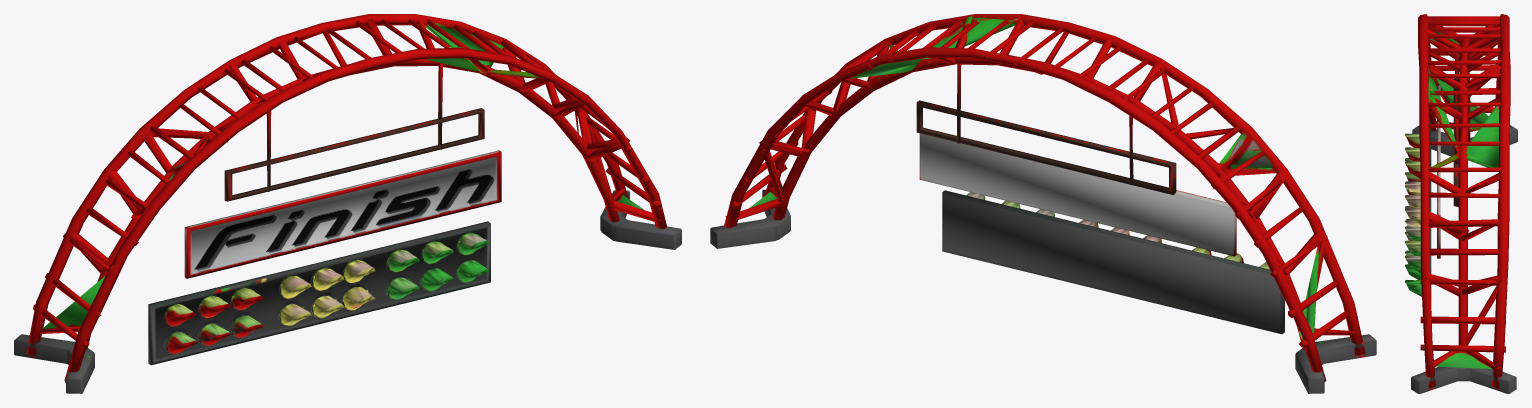
File: selected.glb
3 renders of one model, left to right at view 1: azimuth 30°, elevation 25°; view 2: azimuth 150°, elevation 25°; view 3: azimuth 270°, elevation 25°, orthographic. The views are drawn at different scales.
Visible parts, largest first — view 1: tripo_node_90136e28-149d-4694-bde4-cb4243708469; view 2: tripo_node_90136e28-149d-4694-bde4-cb4243708469; view 3: tripo_node_90136e28-149d-4694-bde4-cb4243708469.
Part boxes in pixels (x1,y1,x2,y2): tripo_node_90136e28-149d-4694-bde4-cb4243708469: (14, 14, 681, 393); tripo_node_90136e28-149d-4694-bde4-cb4243708469: (710, 14, 1376, 393); tripo_node_90136e28-149d-4694-bde4-cb4243708469: (1405, 14, 1517, 393).
Bounding box in the file's own units: 0.998 × 0.4004 × 0.1855.
Materials: 1 (1 with a texture image).
